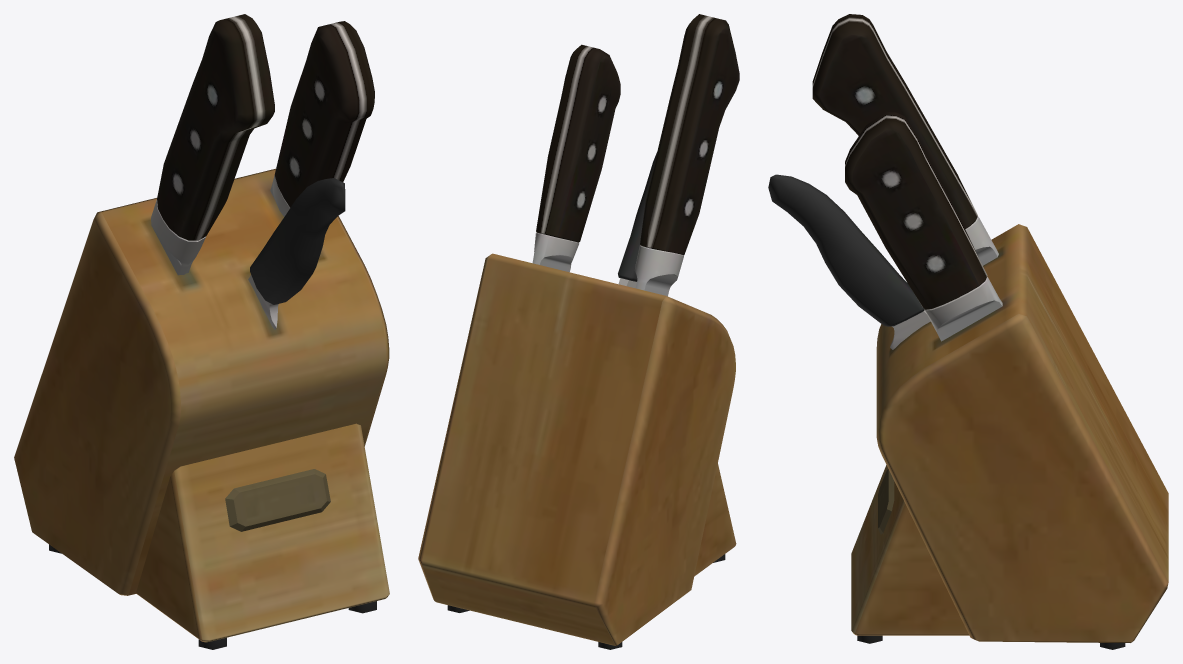
3 renders of one model, left to right at view 1: azimuth 30°, elevation 25°; view 2: azimuth 150°, elevation 25°; view 3: azimuth 270°, elevation 25°, orthographic. The views are drawn at different scales.
Size of the model in its own units: 2.33 by 6.39 by 4.14.
Materials: 1 (1 with a texture image).
